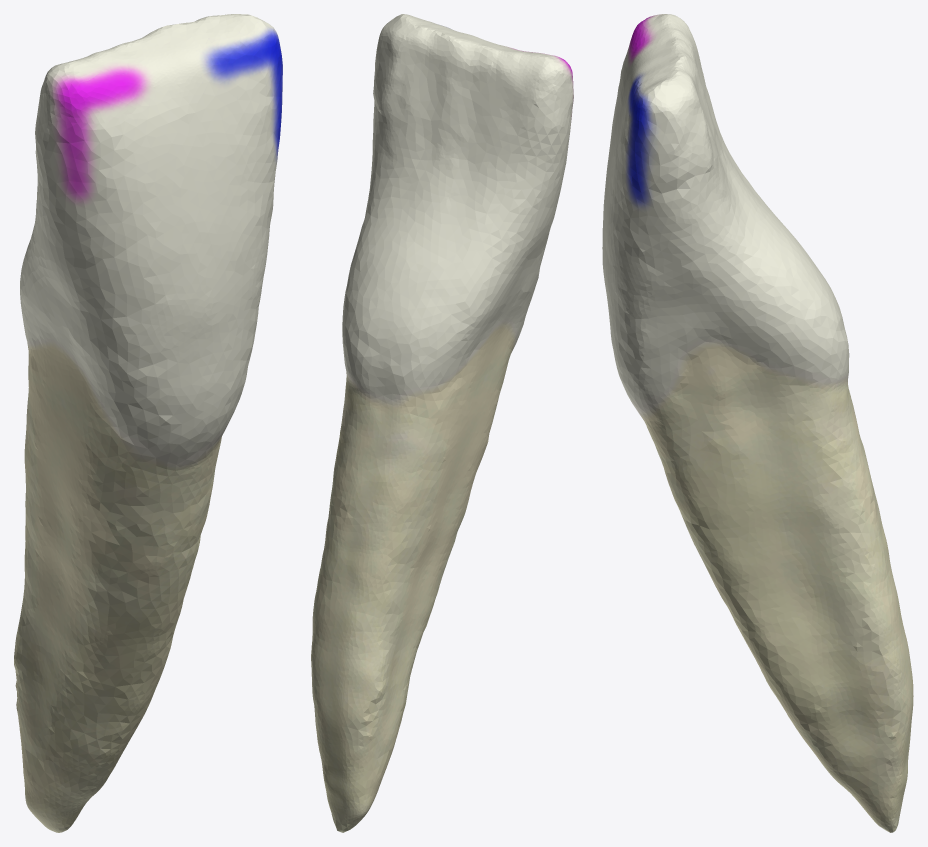
Rendered from 31 - incisivo central inferior esquerdo - ângulos.glb.
The picture shows the model from 3 angles, left to right: view 1: azimuth 30°, elevation 25°; view 2: azimuth 150°, elevation 25°; view 3: azimuth 270°, elevation 25°; orthographic projection. The views are drawn at different scales.
Parts seen in each view (by area): view 1: 3MFMeshParent_0; view 2: 3MFMeshParent_0; view 3: 3MFMeshParent_0.
Part boxes in pixels (x1,y1,x2,y2): 3MFMeshParent_0: (14, 14, 282, 832); 3MFMeshParent_0: (311, 14, 573, 832); 3MFMeshParent_0: (602, 14, 913, 832).
Size of the model in its own units: 0.1528 by 0.5625 by 0.2056.
1 material, 1 textured.
